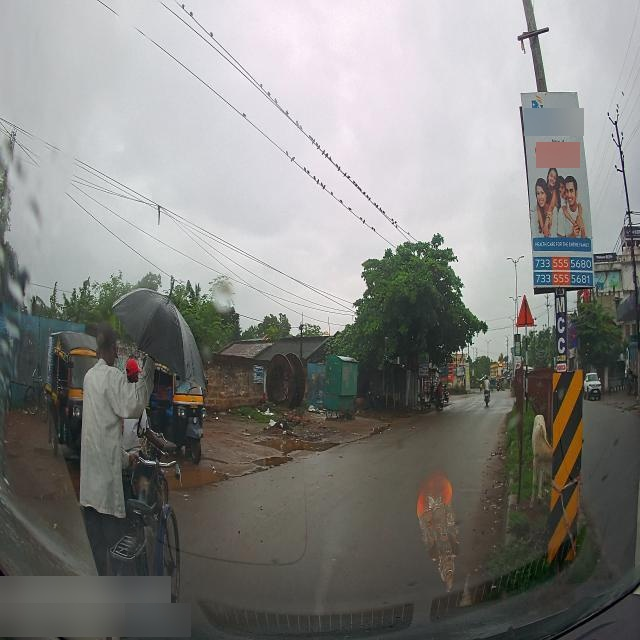pothole: (256, 430, 342, 454), (166, 470, 230, 490), (251, 453, 296, 474), (369, 424, 397, 437)
